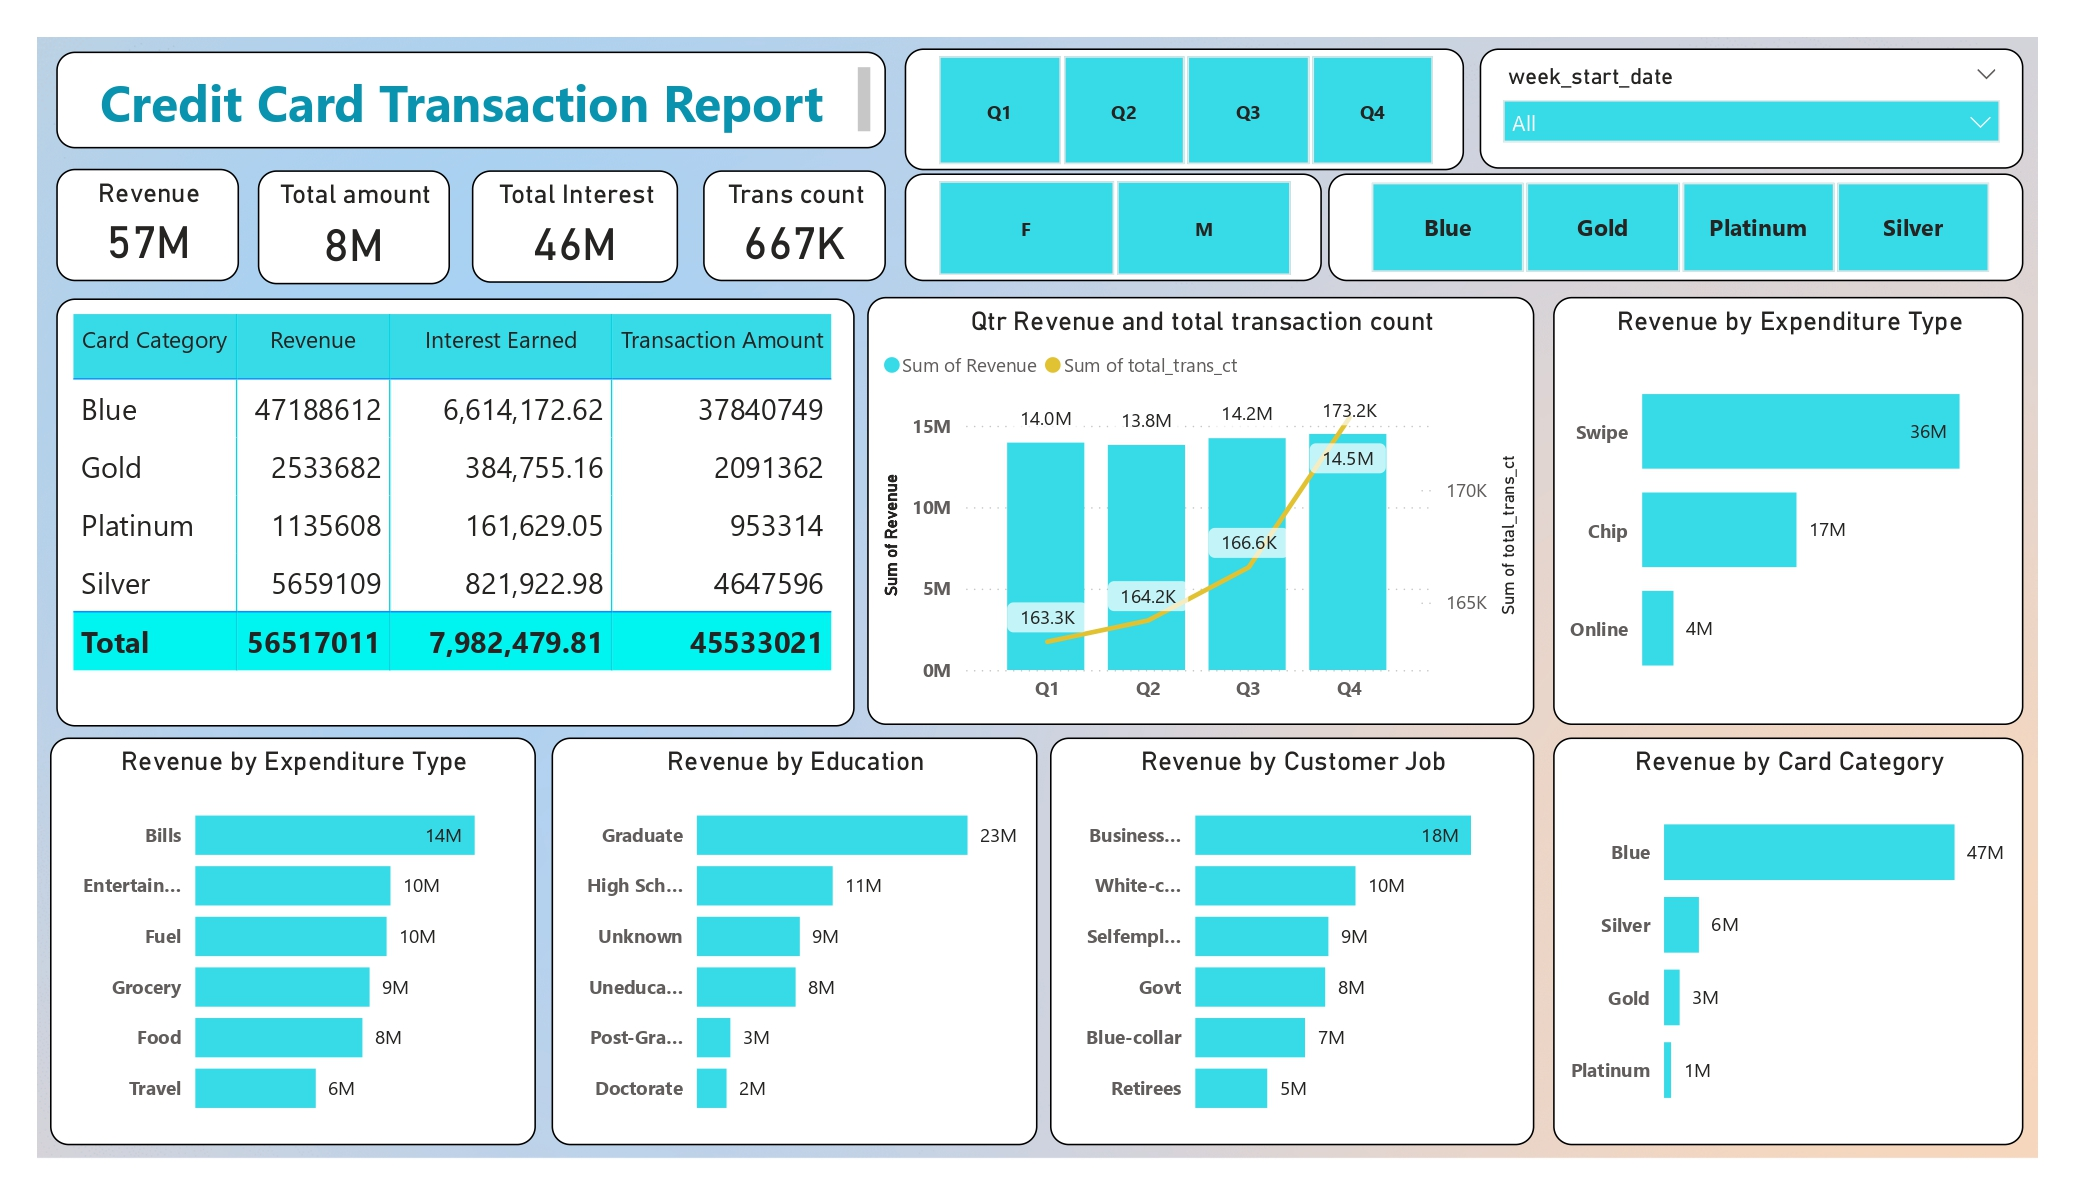

Layout of this report page (visuals, bound fields, positions):
{"tool":"powerbi","page":{"name":"CC Transaction","canvas":[1280,720],"ordinal":1},"visuals":[{"type":"lineStackedColumnComboChart","title":"Qtr Revenue and total transaction count","fields":{"Category":["public cc_detail.qtr"],"Y":["Sum(public cc_detail.Revenue)"],"Y2":["Sum(public cc_detail.total_trans_ct)"]},"box":[531.4,166.3,426.7,273.3],"z":0},{"type":"barChart","title":"Revenue by Expenditure Type","fields":{"Y":["Sum(public cc_detail.Revenue)"],"Category":["public cc_detail.exp_type"]},"box":[8.1,447.7,310.5,261.6],"z":1000},{"type":"barChart","title":"Revenue by Education","fields":{"Y":["Sum(public cc_detail.Revenue)"],"Category":["public cust_detail.education_level"]},"box":[329.1,447.7,310.5,261.6],"z":2000},{"type":"barChart","title":"Revenue by Customer Job","fields":{"Y":["Sum(public cc_detail.Revenue)"],"Category":["public cust_detail.customer_job"]},"box":[647.7,447.7,310.5,261.6],"z":3000},{"type":"barChart","title":"Revenue by Card Category","fields":{"Y":["Sum(public cc_detail.Revenue)"],"Category":["public cc_detail.card_category"]},"box":[969.8,447.7,301.2,261.6],"z":4000},{"type":"barChart","title":"Revenue by Expenditure Type","fields":{"Y":["Sum(public cc_detail.Revenue)"],"Category":["public cc_detail.use_chip"]},"box":[969.8,166.3,301.2,273.3],"z":5000},{"type":"tableEx","fields":{"Values":["public cc_detail.card_category","Sum(public cc_detail.Revenue)","Sum(public cc_detail.interest_earned)","Sum(public cc_detail.total_trans_amt)"]},"box":[11.6,167.4,511.6,273.3],"z":6000},{"type":"card","title":"Revenue ","fields":{"Values":["Sum(public cc_detail.Revenue)"]},"box":[11.6,83.7,117.4,72.1],"z":7000},{"type":"card","title":"Total Interest","fields":{"Values":["Sum(public cc_detail.total_trans_amt)"]},"box":[277.9,84.9,132.6,72.1],"z":8000},{"type":"card","title":"Total amount","fields":{"Values":["Sum(public cc_detail.interest_earned)"]},"box":[140.7,84.9,123.3,73.3],"z":9000},{"type":"card","title":"Trans count","fields":{"Values":["Sum(public cc_detail.total_trans_ct)"]},"box":[425.6,84.9,117.4,70.9],"z":10000},{"type":"textbox","box":[11.6,9.3,531.4,62],"z":11000},{"type":"slicer","fields":{"Values":["public cc_detail.week_start_date"]},"box":[923.3,7,347.7,76.7],"z":12000},{"type":"slicer","fields":{"Values":["public cc_detail.qtr"]},"box":[554.7,7,358.1,77.9],"z":13000},{"type":"slicer","fields":{"Values":["public cust_detail.gender"]},"box":[554.7,87.2,267.4,68.6],"z":14000},{"type":"slicer","fields":{"Values":["public cc_detail.card_category"]},"box":[825.6,87.2,445.4,68.6],"z":15000}]}

Visuals, with their boxes in screenshot pixels (x1, y1, x2, y2):
"Qtr Revenue and total transaction count" lineStackedColumnComboChart: [868,294,1526,716]
"Revenue by Expenditure Type" barChart: [61,728,540,1132]
"Revenue by Education" barChart: [556,728,1035,1132]
"Revenue by Customer Job" barChart: [1047,728,1526,1132]
"Revenue by Card Category" barChart: [1544,728,2009,1132]
"Revenue by Expenditure Type" barChart: [1544,294,2009,716]
tableEx - public cc_detail.card_category x Sum(public cc_detail.Revenue): [67,296,855,717]
"Revenue " card: [67,167,248,278]
"Total Interest" card: [477,169,682,280]
"Total amount" card: [266,169,456,282]
"Trans count" card: [705,169,886,278]
textbox: [67,52,886,148]
slicer - public cc_detail.week_start_date: [1472,49,2009,167]
slicer - public cc_detail.qtr: [904,49,1456,169]
slicer - public cust_detail.gender: [904,172,1316,278]
slicer - public cc_detail.card_category: [1322,172,2009,278]
